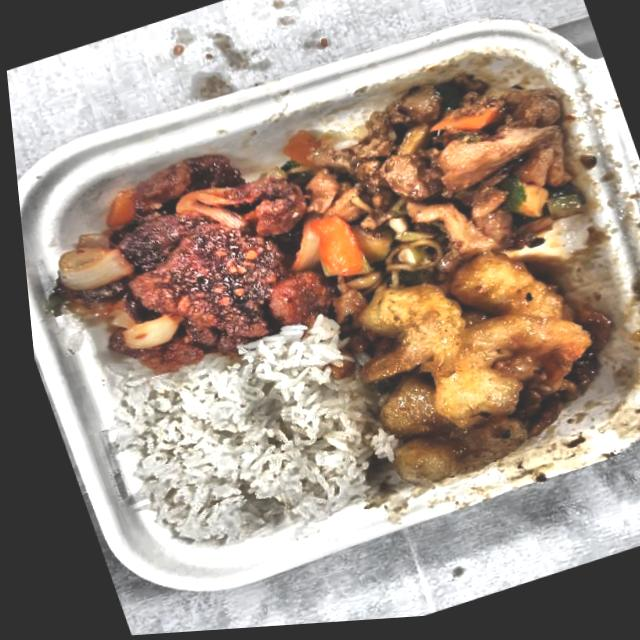Food: (261, 42, 619, 320), (18, 121, 345, 397), (311, 228, 624, 507), (95, 325, 378, 567)
